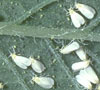whitefly: (9, 49, 31, 70), (65, 5, 85, 28), (74, 1, 96, 20), (81, 65, 100, 84), (28, 55, 45, 74), (30, 75, 53, 89), (70, 60, 93, 74), (75, 71, 92, 89), (58, 42, 80, 55)
